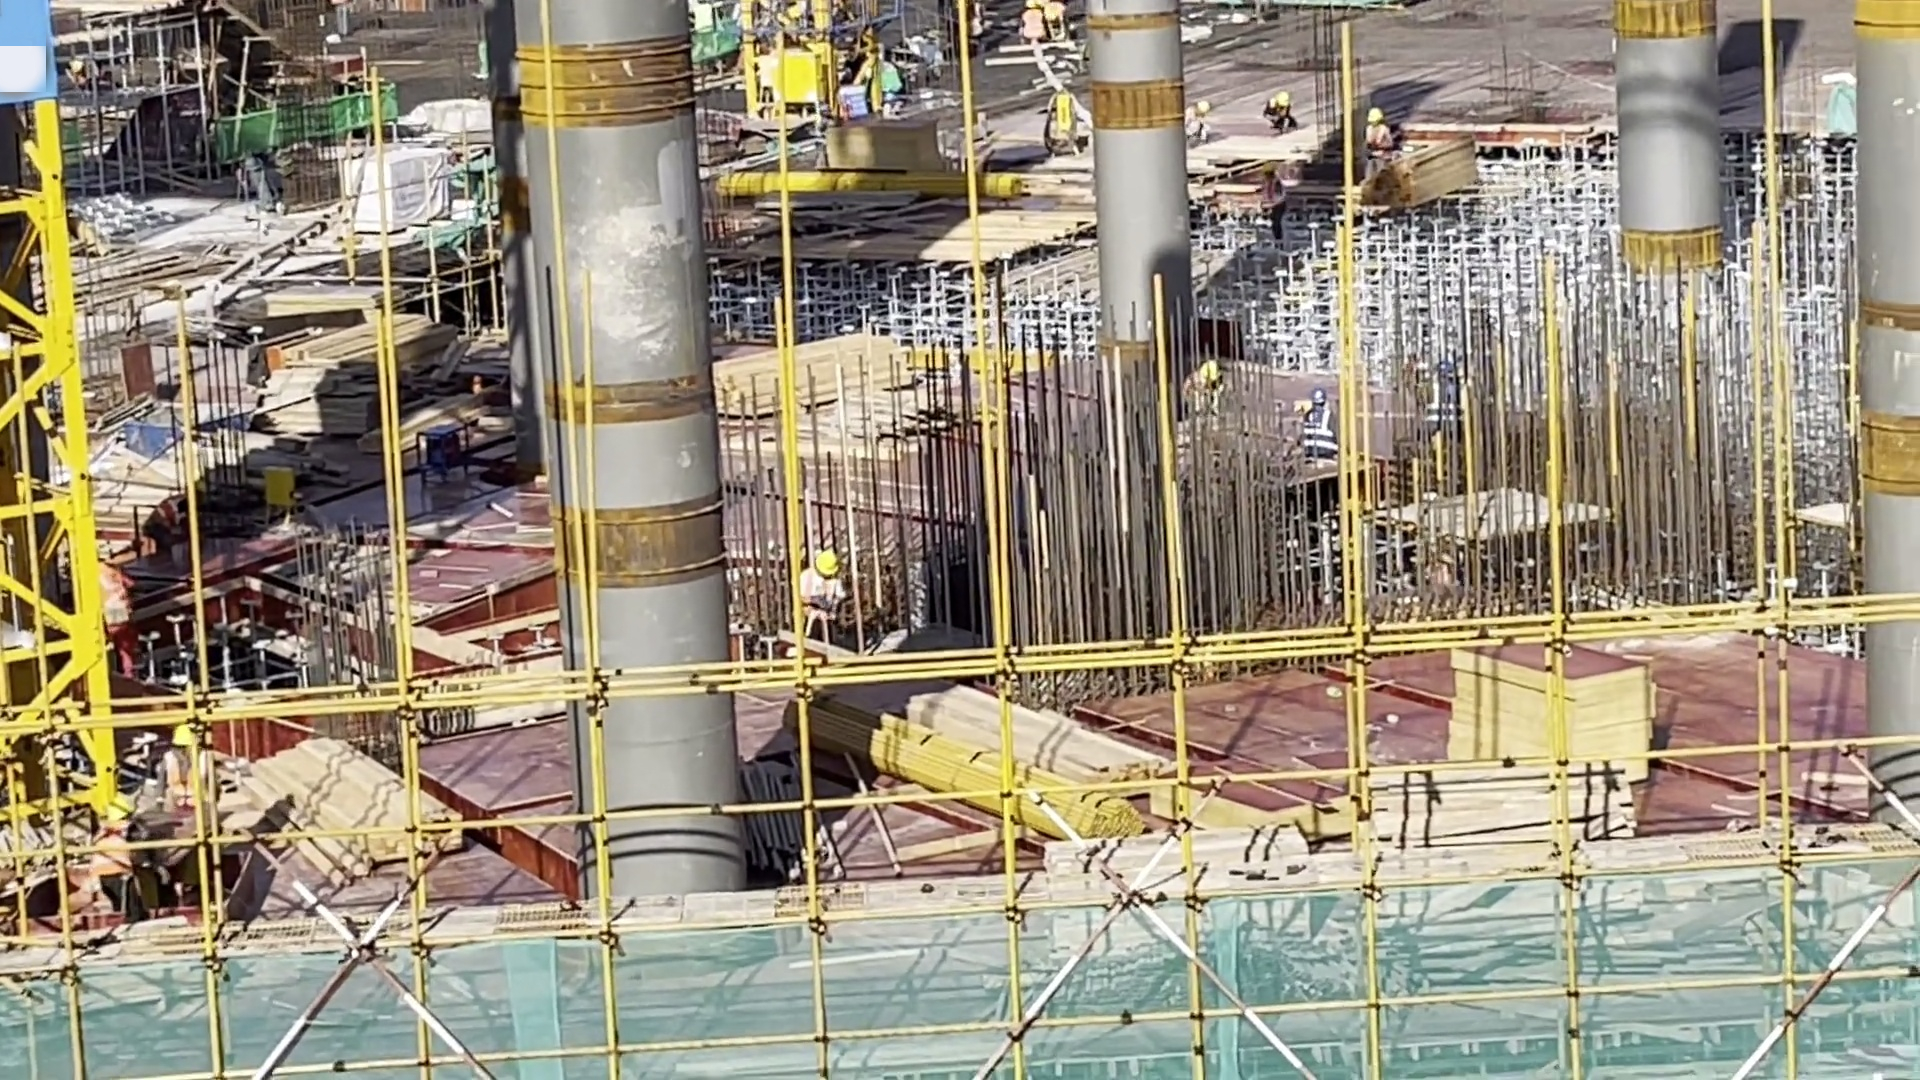helmet: (1199, 356, 1232, 390), (166, 718, 202, 749), (815, 553, 848, 580), (1304, 378, 1331, 406), (1365, 101, 1383, 123), (1271, 94, 1295, 105), (1196, 97, 1211, 115)
person: (141, 713, 228, 840), (1294, 388, 1353, 466), (1178, 357, 1227, 444), (805, 556, 850, 638), (1362, 103, 1400, 163), (1188, 94, 1217, 150), (1265, 86, 1298, 134)
vest: (166, 750, 217, 816), (1295, 407, 1332, 445)
